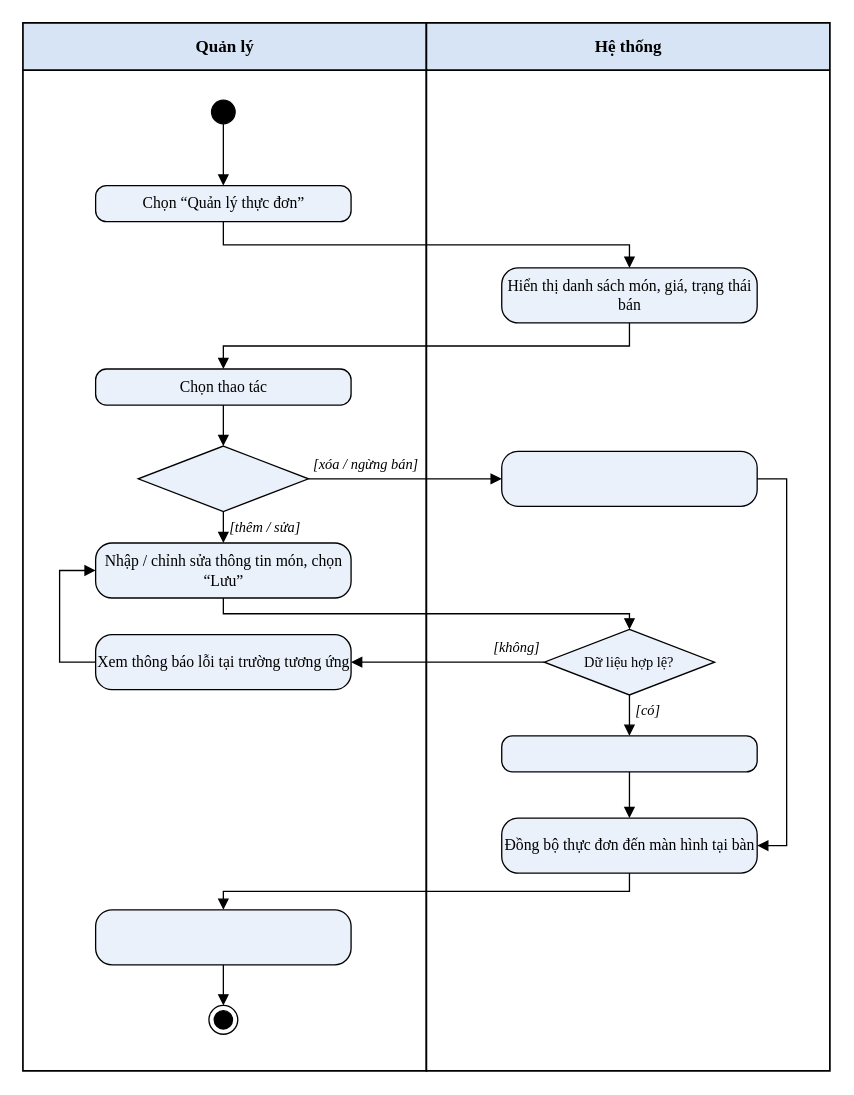
Image size: 854x1095. Some labels were removed from this diagram. The centre of each missing label's shape, as x and y in pixels:
"Lưu thông tin món vào CSDL" belongs at (x=628, y=753).
"Nhận thông báo cập nhật thành công" belongs at (x=222, y=936).
"Thao tác?" belongs at (x=223, y=478).
"Xác nhận, chuyển món sang “Ngừng bán”" belongs at (x=628, y=478).
